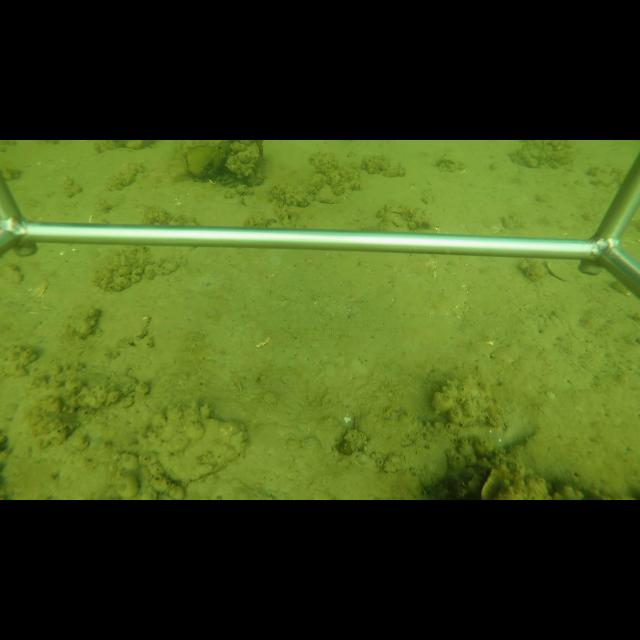Oyster-Closed: (158, 406, 250, 486)
